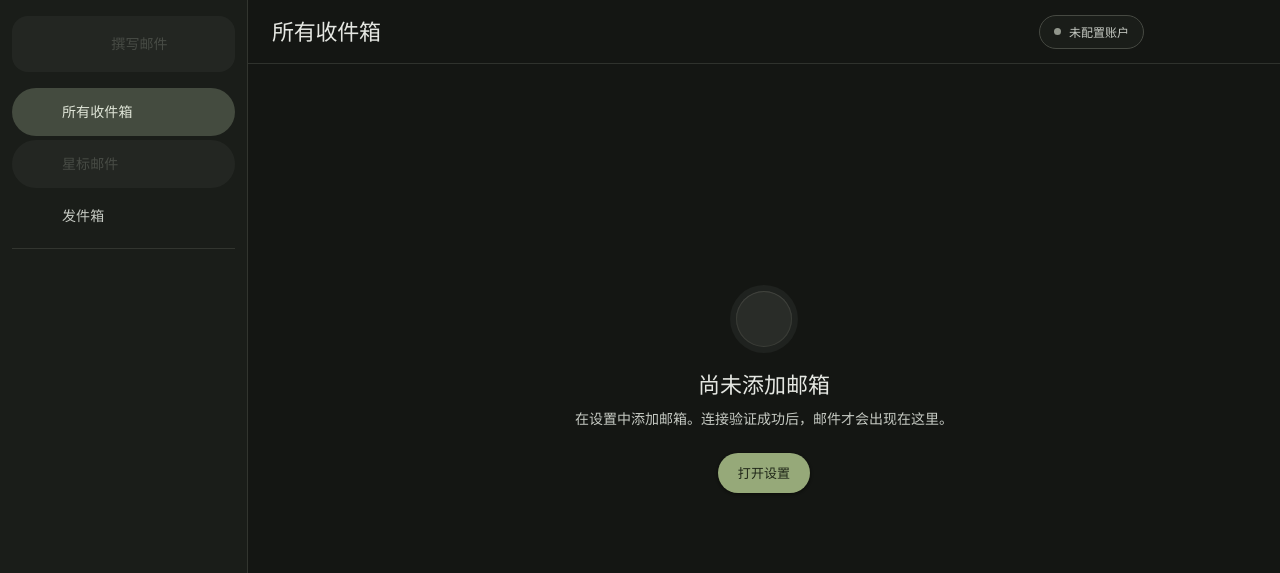
邮箱账户关键流程 › 零账户启动时显示主界面空状态与设置入口，不强制弹出添加邮箱
Expected: the heading "尚未添加邮箱" is shown, [698,367,830,400]
What coordinates should you click on to do the following:
click the button "打开设置"
I would click on:
 (764, 473)
Its box is [718,453,810,493].
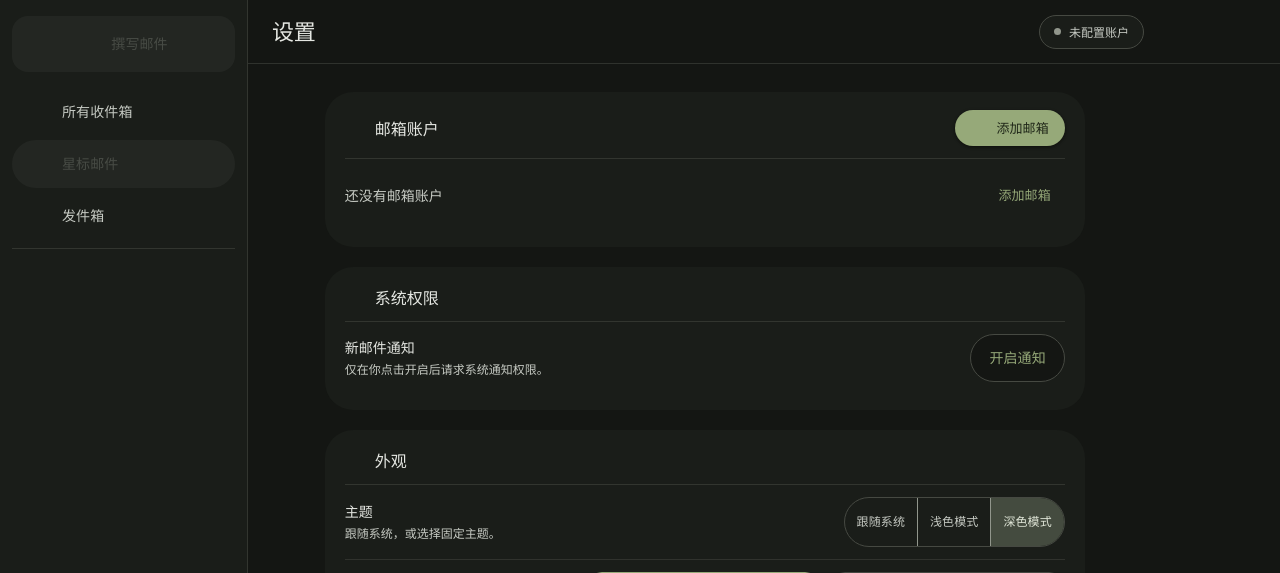
Expected: the heading "邮箱账户" is shown, [375,116,439,140]
